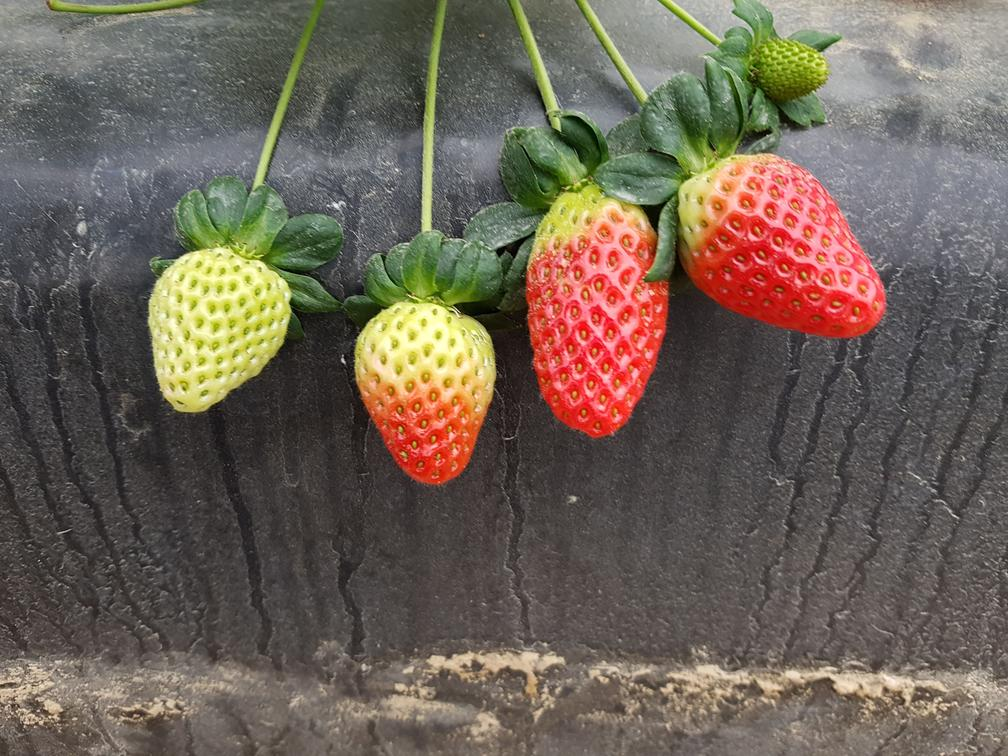Ripe: (679, 155, 894, 348), (527, 177, 677, 438)
Unripe: (353, 295, 506, 488), (146, 245, 297, 414), (754, 33, 826, 101)
